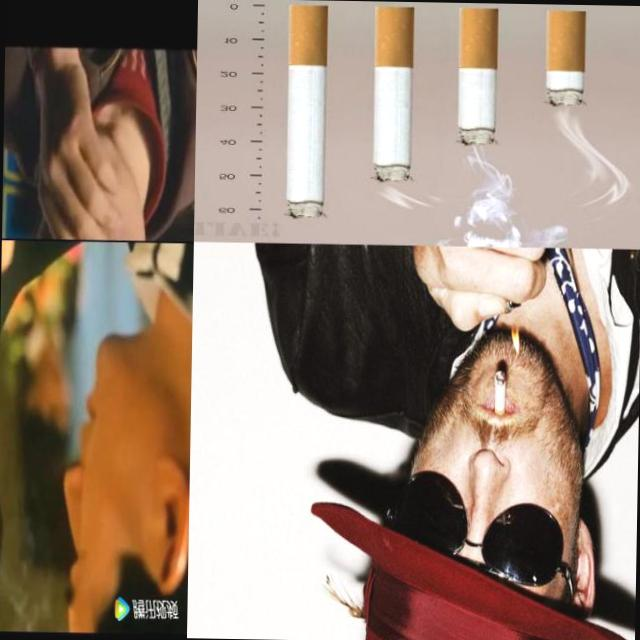cigarette: (284, 4, 329, 219), (372, 7, 416, 184), (457, 7, 500, 146), (544, 9, 587, 107), (491, 368, 509, 418)
